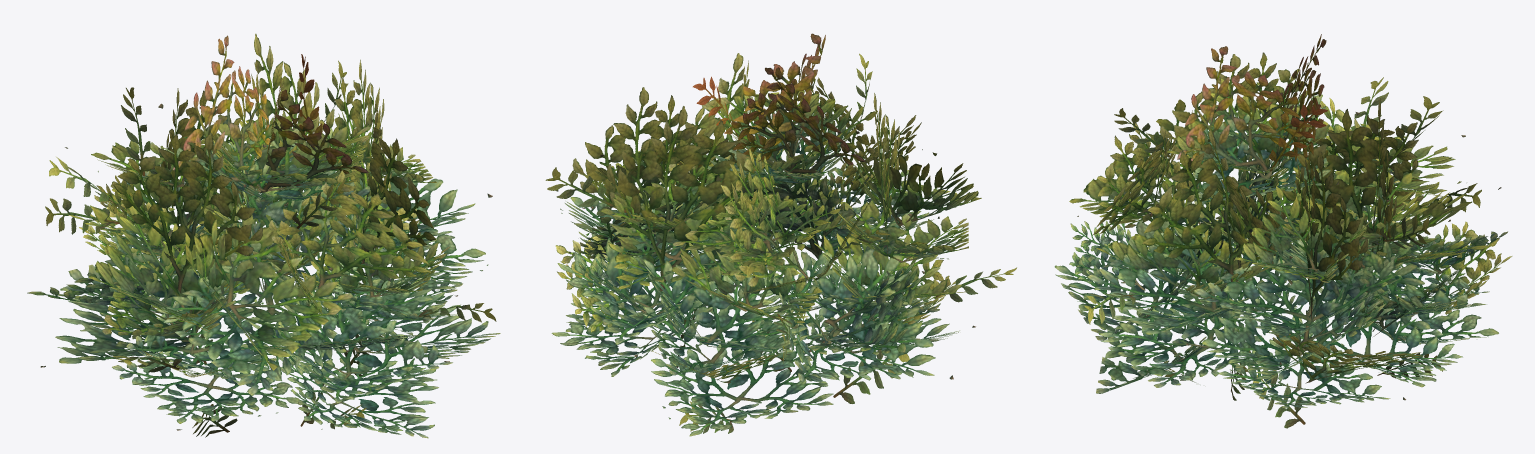
Rendered from Yland1_Zb_08_Yland1.FBX.
3 renders of one model, left to right at view 1: azimuth 30°, elevation 25°; view 2: azimuth 150°, elevation 25°; view 3: azimuth 270°, elevation 25°, orthographic. The views are drawn at different scales.
Parts seen in each view (by area): view 1: Yland1_Zb_08_Yland1; view 2: Yland1_Zb_08_Yland1; view 3: Yland1_Zb_08_Yland1.
Boxes of the visible parts, <box> form: Yland1_Zb_08_Yland1: <box>27,33,500,438</box>; Yland1_Zb_08_Yland1: <box>545,33,1016,436</box>; Yland1_Zb_08_Yland1: <box>1054,34,1512,428</box>.
Bounding box in the file's own units: 4.19 × 3.6 × 4.12.
